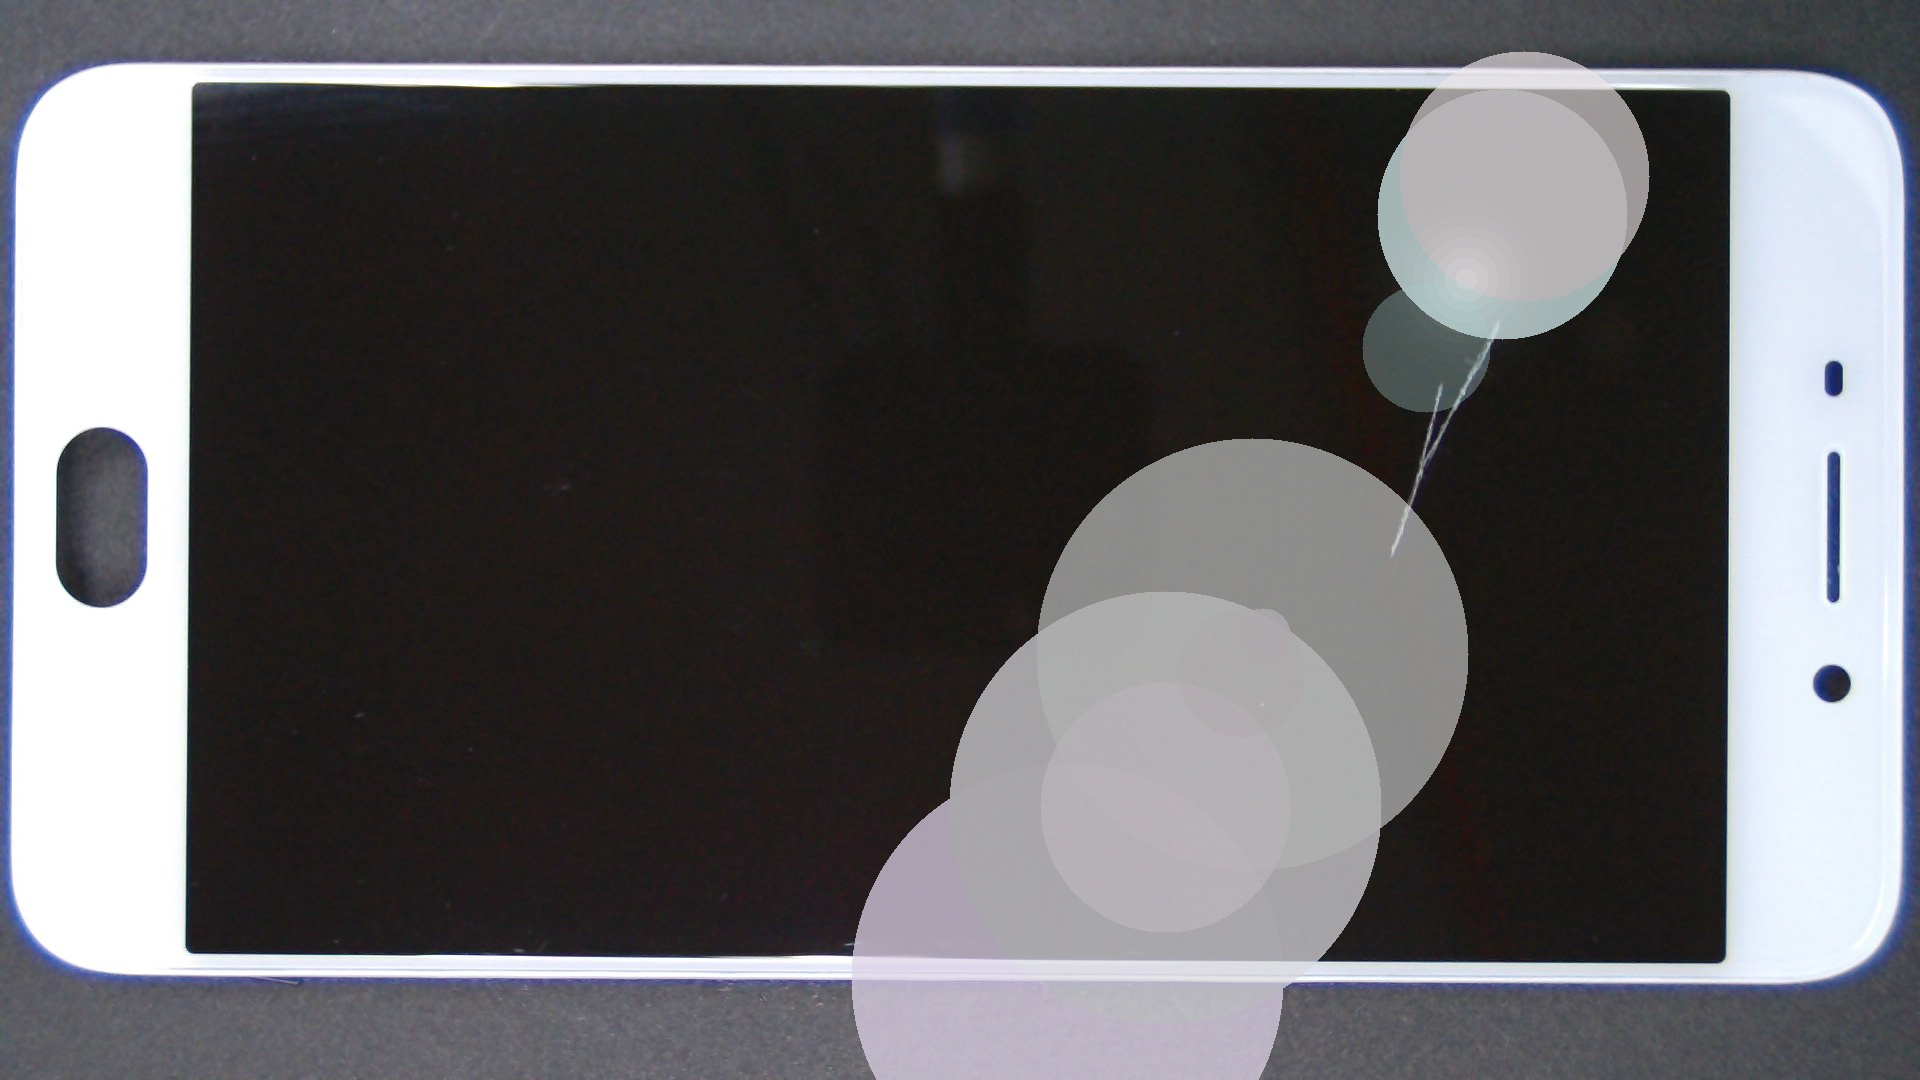oil: (748, 160, 1920, 480)
